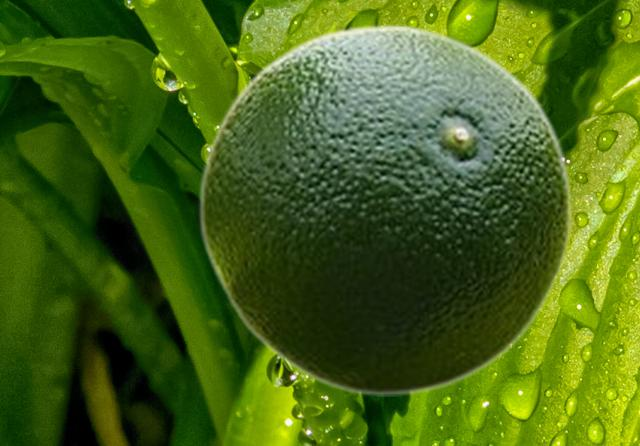calamansi: (197, 23, 572, 395)
